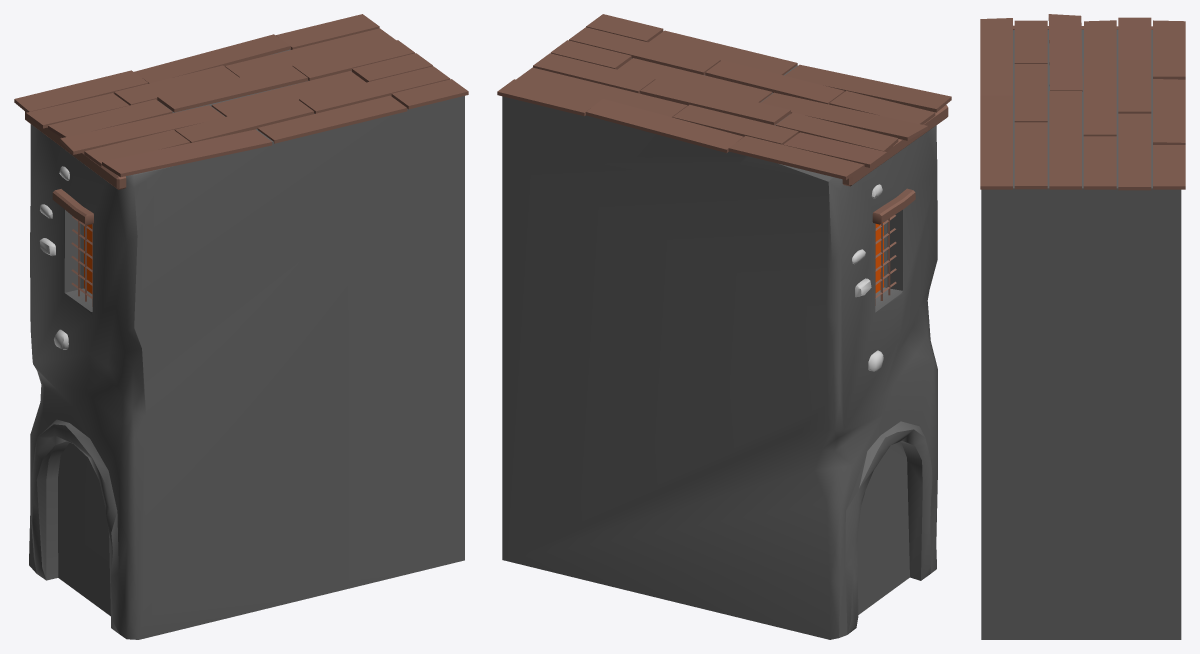
File: civilian_house_23.FBX
3 views of the same model, side by side, from view 1: azimuth 30°, elevation 25°; view 2: azimuth 150°, elevation 25°; view 3: azimuth 270°, elevation 25° (orthographic). The views are drawn at different scales.
Visible parts, largest first — view 1: civilian_house_23_LOD0; view 2: civilian_house_23_LOD0; view 3: civilian_house_23_LOD0.
Boxes of the visible parts, left/top/right/bottom form: civilian_house_23_LOD0: left=14, top=14, right=468, bottom=639; civilian_house_23_LOD0: left=497, top=14, right=951, bottom=639; civilian_house_23_LOD0: left=980, top=14, right=1185, bottom=639.
Size of what is drawn, in the model's own units: 549 by 688 by 280.
